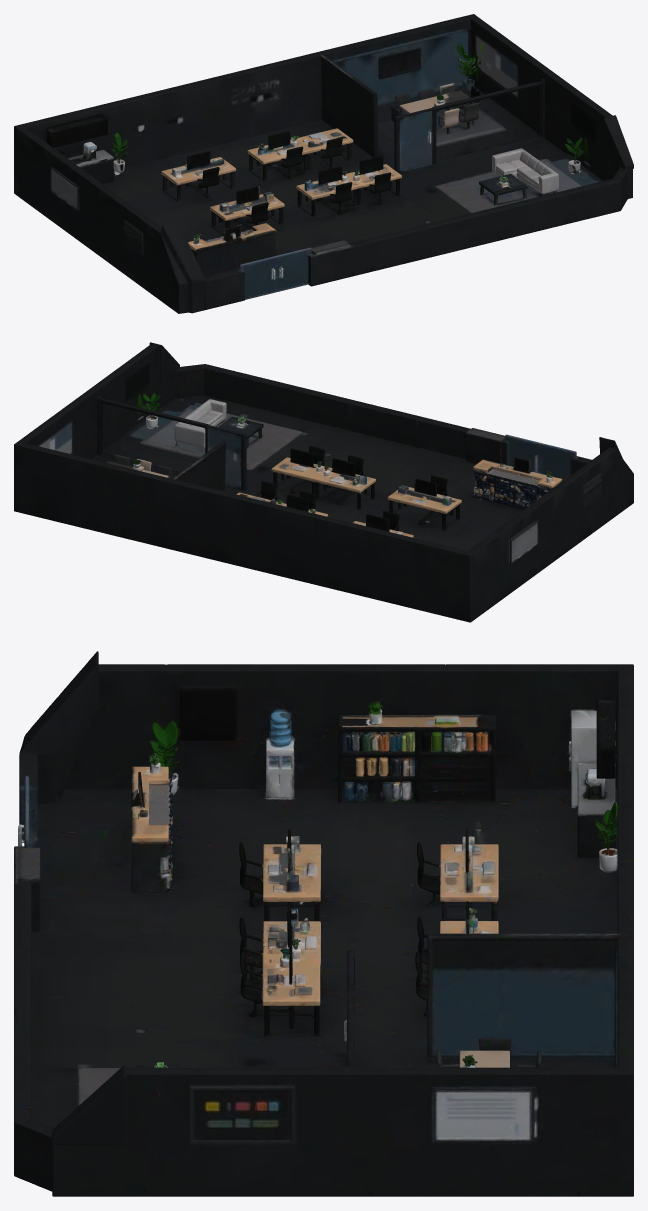
Rendered from office_opt.glb.
The picture shows the model from 3 angles, top to bottom: view 1: azimuth 30°, elevation 25°; view 2: azimuth 150°, elevation 25°; view 3: azimuth 270°, elevation 25°; orthographic projection. The views are drawn at different scales.
Size of the model in its own units: 1.91 by 0.2973 by 1.21.
1 material, 1 textured.
